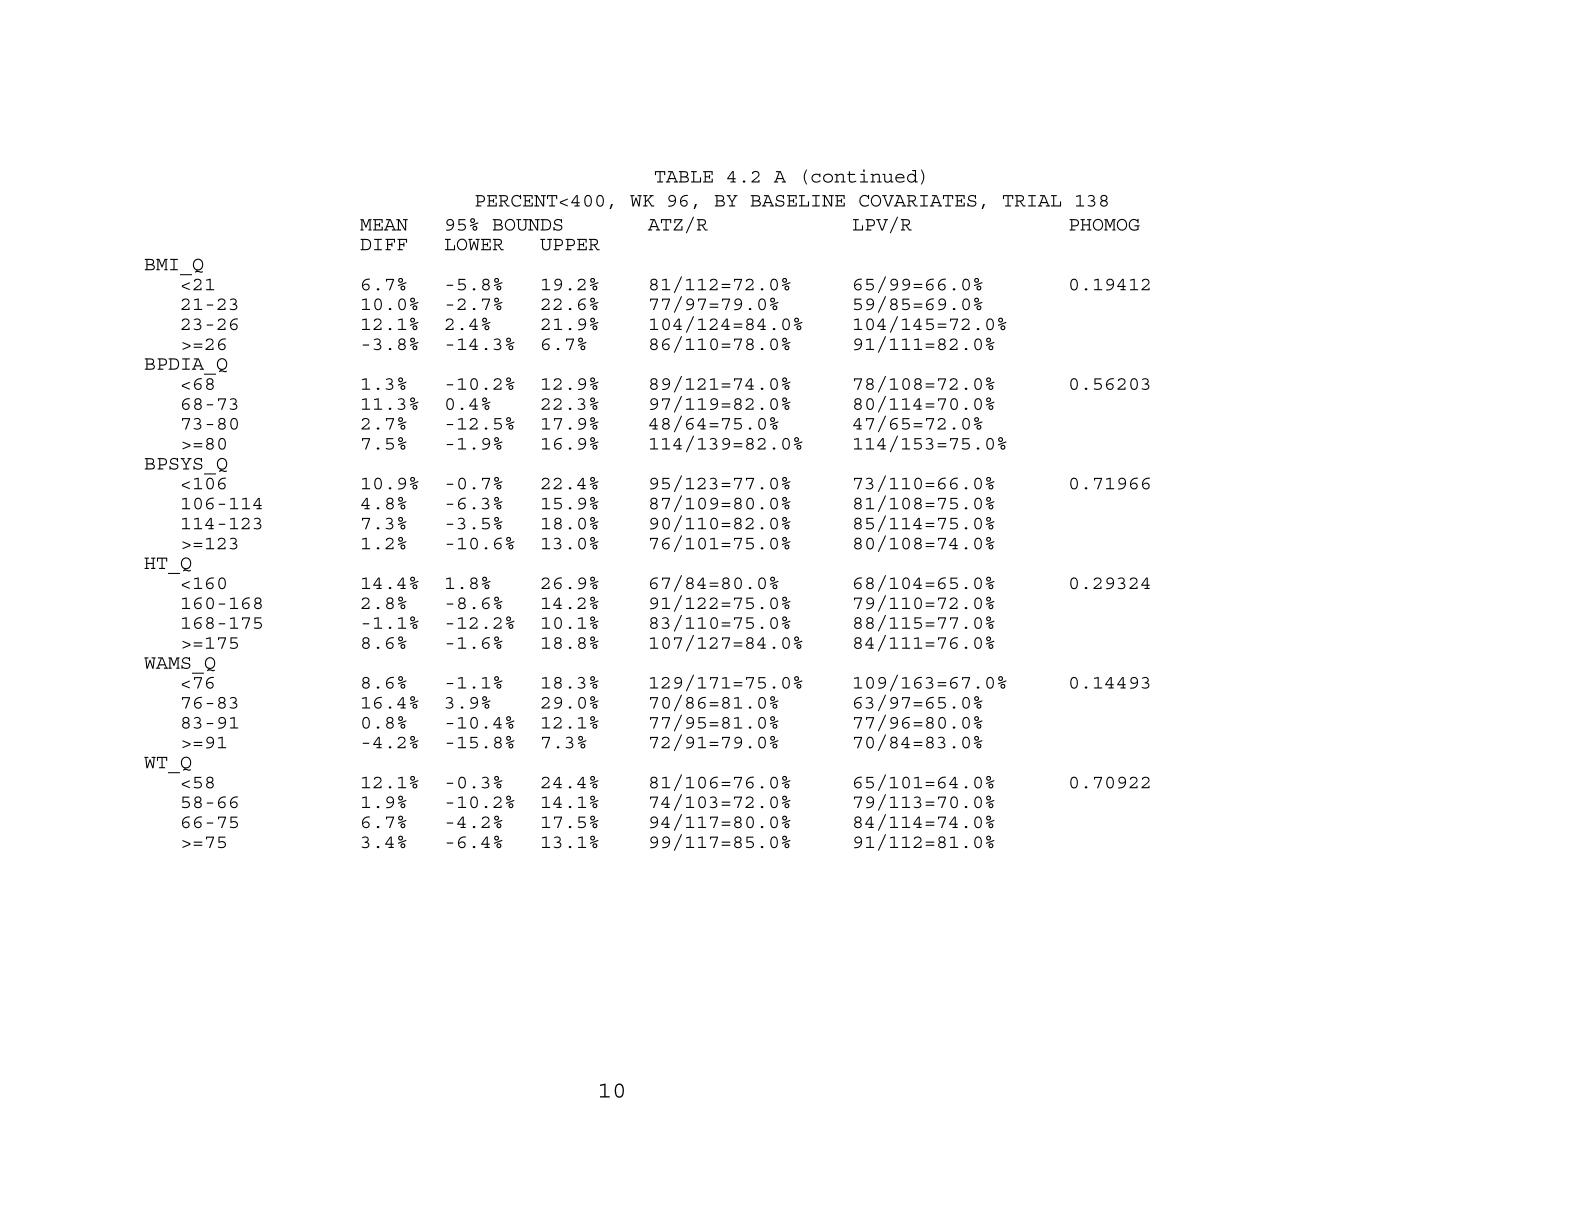nolines: (145, 219, 1155, 852)
